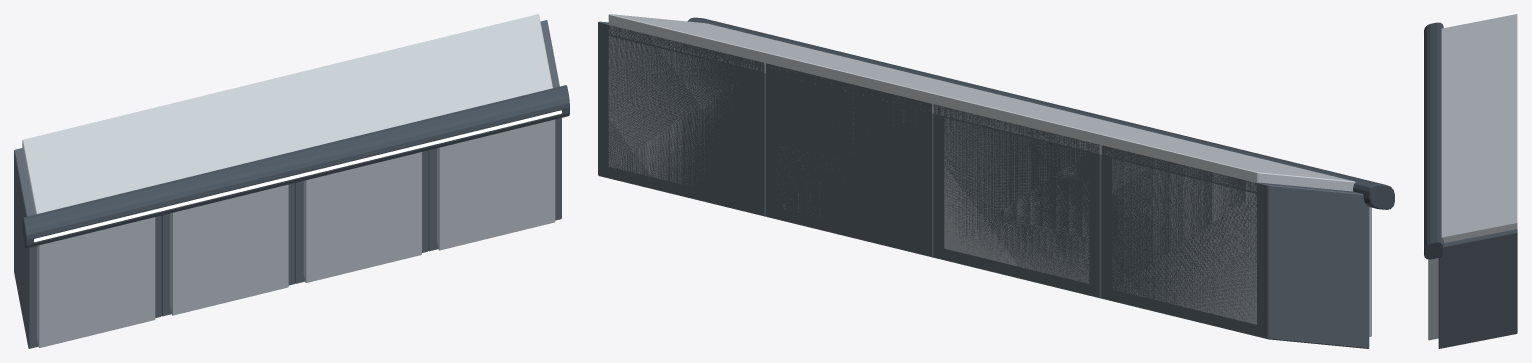
Rendered from Terrain_TopRun4LR.gltf.
3 views of the same model, side by side, from view 1: azimuth 30°, elevation 25°; view 2: azimuth 150°, elevation 25°; view 3: azimuth 270°, elevation 25° (orthographic). The views are drawn at different scales.
Visible parts, largest first — view 1: Terrain_TopRun4LR_baked; view 2: Terrain_TopRun4LR_baked; view 3: Terrain_TopRun4LR_baked.
Part boxes in pixels (x1,y1,x2,y2): Terrain_TopRun4LR_baked: [14, 14, 569, 348]; Terrain_TopRun4LR_baked: [598, 14, 1394, 348]; Terrain_TopRun4LR_baked: [1423, 14, 1517, 348].
Size of the model in its own units: 4.33 by 1.18 by 0.74.
